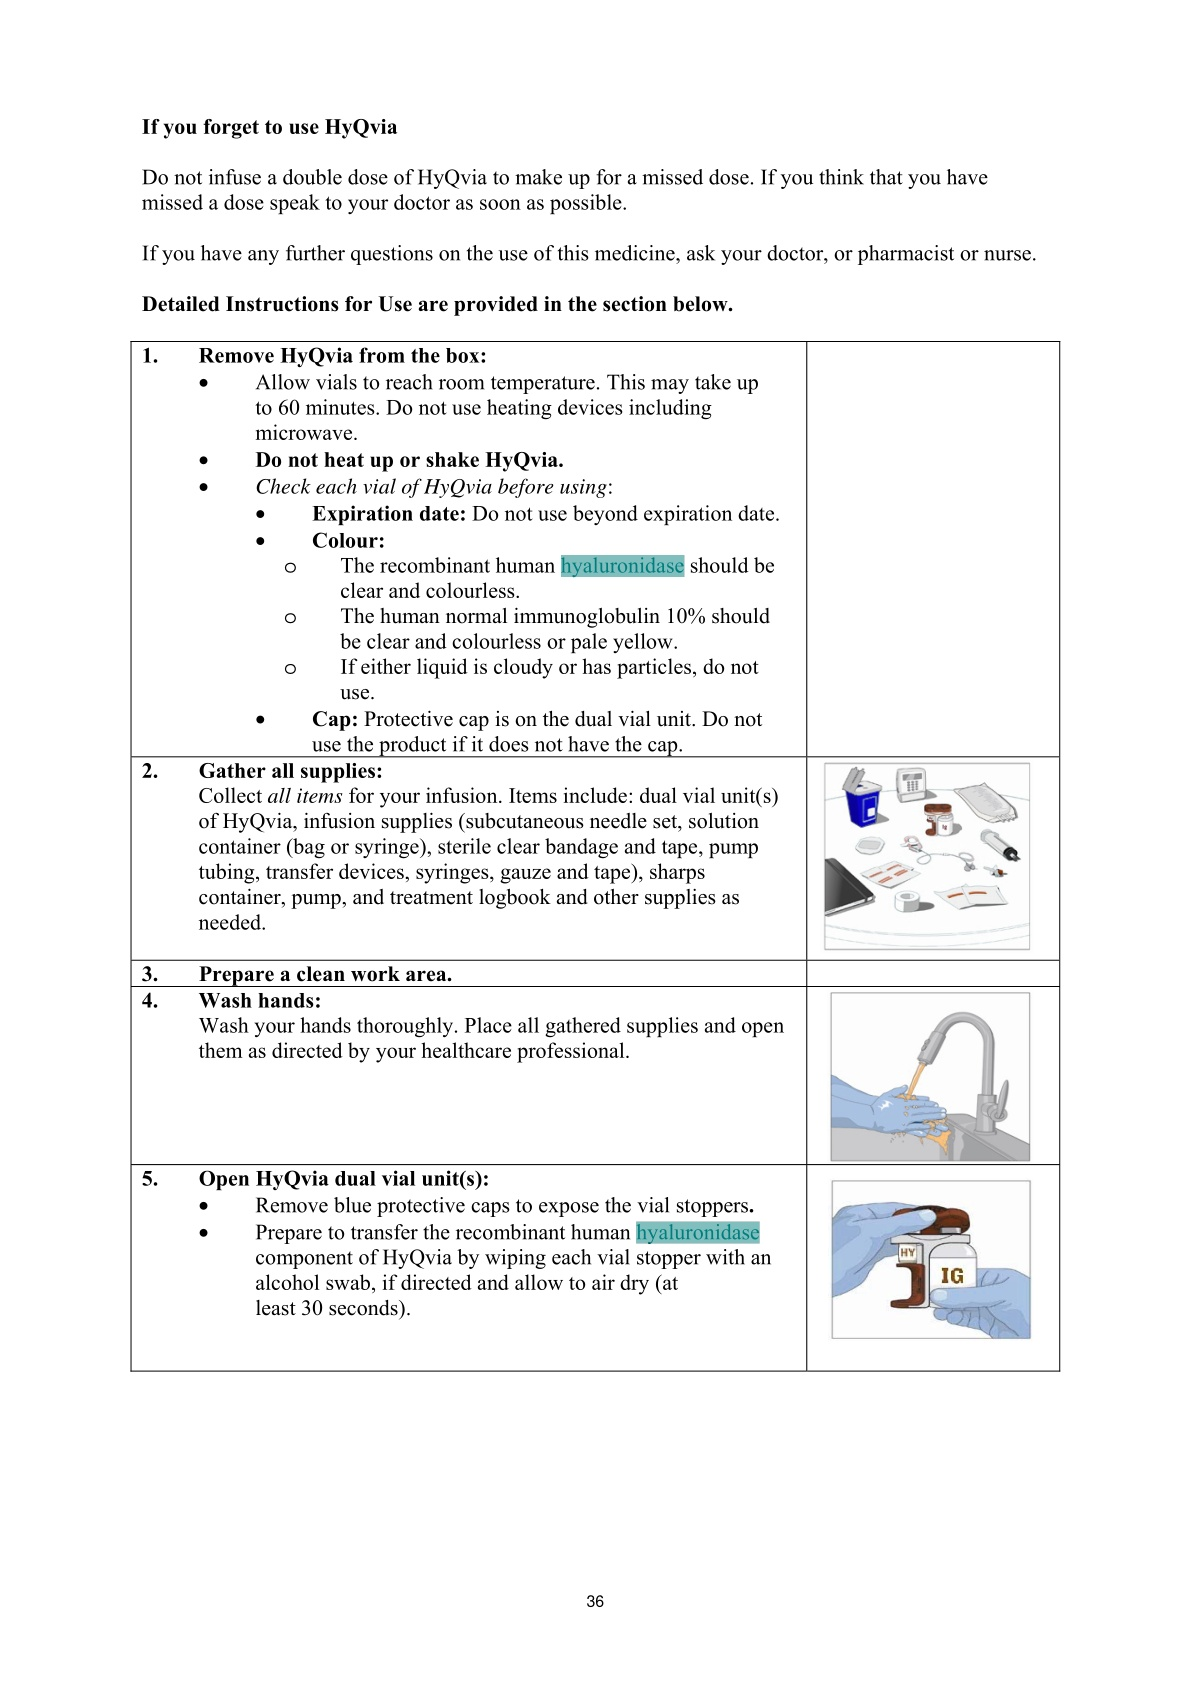full_lined: (130, 339, 1061, 1373)
